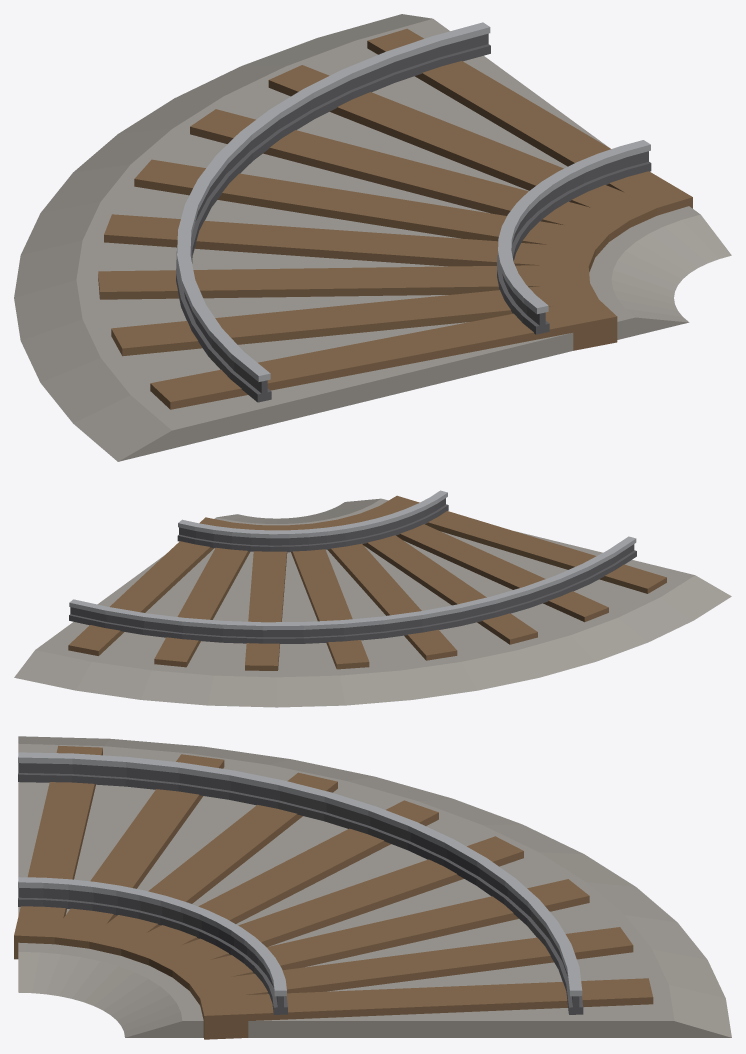
Rendered from SM_Rail_Corner.glb.
3 renders of one model, top to bottom at view 1: azimuth 30°, elevation 25°; view 2: azimuth 150°, elevation 25°; view 3: azimuth 270°, elevation 25°, orthographic. The views are drawn at different scales.
Visible parts, largest first — view 1: SM_Rail_Corner; view 2: SM_Rail_Corner; view 3: SM_Rail_Corner.
Part boxes in pixels (x1,y1,x2,y2): SM_Rail_Corner: [14, 14, 731, 461]; SM_Rail_Corner: [14, 490, 731, 707]; SM_Rail_Corner: [14, 736, 731, 1039].
Size of the model in its own units: 3.5 by 0.254 by 3.5.
